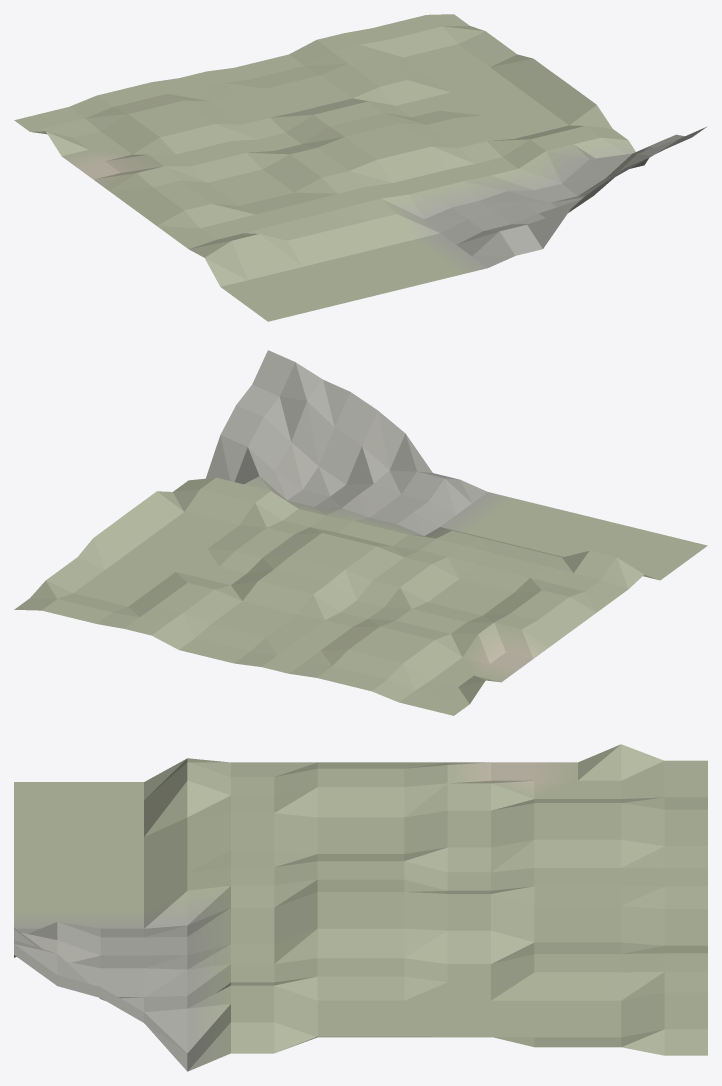
The picture shows the model from 3 angles, top to bottom: view 1: azimuth 30°, elevation 25°; view 2: azimuth 150°, elevation 25°; view 3: azimuth 270°, elevation 25°; orthographic projection. The views are drawn at different scales.
Size of the model in its own units: 32 by 6.13 by 32.
